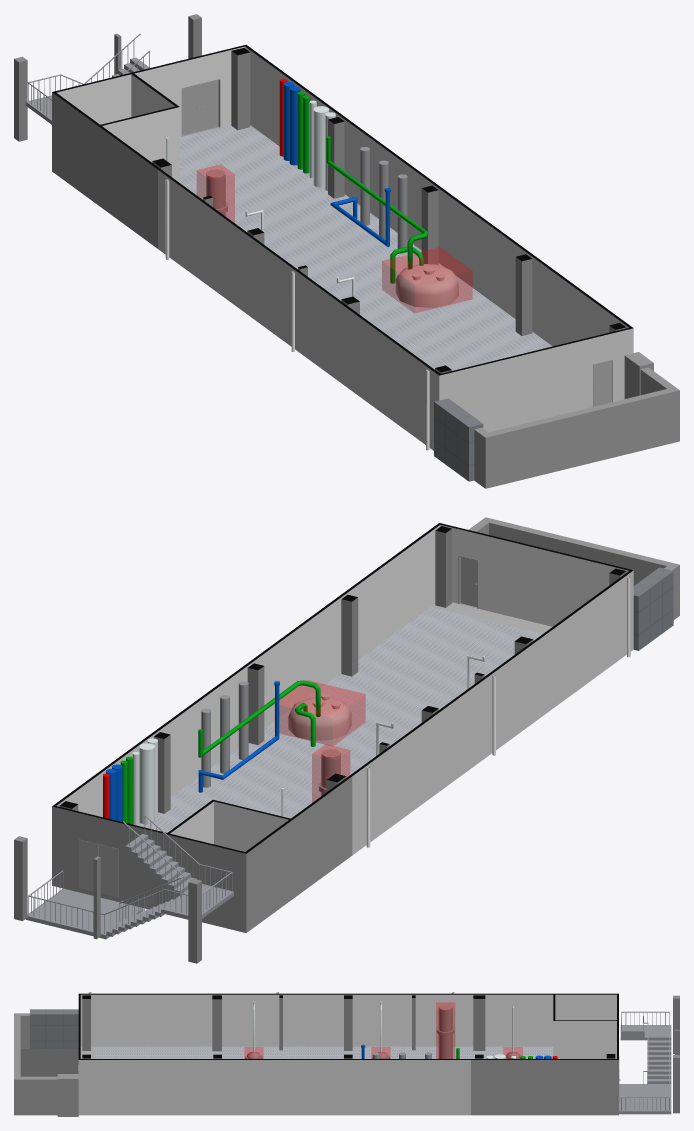
File: soulbrain_T10-1-4F-1.glb
3 renders of one model, top to bottom at view 1: azimuth 30°, elevation 25°; view 2: azimuth 150°, elevation 25°; view 3: azimuth 270°, elevation 25°, orthographic. The views are drawn at different scales.
Parts seen in each view (by area): view 1: Line036, T10-1-4F-1설비, T10-1-4F-1, equipment-T10-1-4F-1-005, Shape027, equipment-T10-1-4F-1-003, Line1207, Line1214, Shape072; view 2: Line036, T10-1-4F-1설비, T10-1-4F-1, equipment-T10-1-4F-1-005, Shape027, equipment-T10-1-4F-1-003, Line1207, Line1214; view 3: Line036, T10-1-4F-1설비, T10-1-4F-1, Shape027, Rectangle044, Shape072, equipment-T10-1-4F-1-003, Shape075, equipment-T10-1-4F-1-001.
Part boxes in pixels (bbox=[...]): Line036: bbox=[52, 44, 679, 488]; T10-1-4F-1설비: bbox=[179, 78, 552, 370]; T10-1-4F-1: bbox=[14, 14, 612, 450]; equipment-T10-1-4F-1-005: bbox=[382, 247, 472, 312]; Shape027: bbox=[434, 398, 483, 481]; equipment-T10-1-4F-1-003: bbox=[197, 164, 234, 222]; Line1207: bbox=[326, 136, 428, 283]; Line1214: bbox=[330, 188, 390, 247]; Shape072: bbox=[206, 169, 227, 216]; Line036: bbox=[52, 517, 679, 932]; T10-1-4F-1설비: bbox=[103, 607, 542, 832]; T10-1-4F-1: bbox=[14, 555, 630, 963]; equipment-T10-1-4F-1-005: bbox=[279, 680, 365, 745]; Shape027: bbox=[633, 567, 673, 650]; equipment-T10-1-4F-1-003: bbox=[312, 744, 349, 802]; Line1207: bbox=[198, 680, 320, 757]; Line1214: bbox=[198, 681, 279, 792]; Line036: bbox=[14, 993, 618, 1116]; T10-1-4F-1설비: bbox=[94, 1046, 557, 1058]; T10-1-4F-1: bbox=[78, 992, 679, 1114]; Shape027: bbox=[30, 1009, 78, 1048]; Rectangle044: bbox=[20, 1049, 78, 1076]; Shape072: bbox=[245, 1004, 520, 1058]; equipment-T10-1-4F-1-003: bbox=[436, 1002, 454, 1058]; Shape075: bbox=[253, 1001, 513, 1053]; equipment-T10-1-4F-1-001: bbox=[244, 1047, 263, 1058].
Bounding box in the file's own units: 9.45 × 4.55 × 38.16.
Materials: 19 (2 with a texture image).
